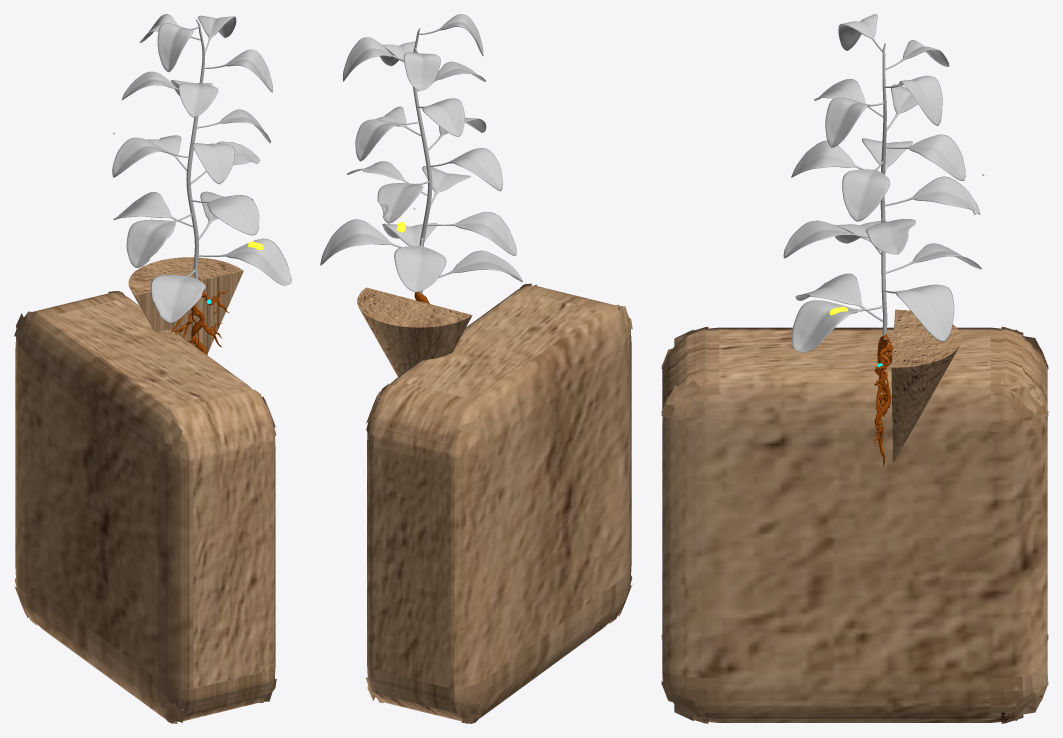
Rendered from outdoorplant.fbx.
3 renders of one model, left to right at view 1: azimuth 30°, elevation 25°; view 2: azimuth 150°, elevation 25°; view 3: azimuth 270°, elevation 25°, orthographic. The views are drawn at different scales.
Parts seen in each view (by area): view 1: Cube, stem, Cone; view 2: Cube, stem, Cone; view 3: Cube, stem, Cone, Vine_023.
Boxes of the visible parts, bbox=[...] form: Cube: bbox=[14, 290, 276, 723]; stem: bbox=[112, 14, 291, 323]; Cone: bbox=[128, 257, 243, 353]; Cube: bbox=[366, 283, 632, 723]; stem: bbox=[320, 14, 522, 293]; Cone: bbox=[357, 287, 472, 376]; Cube: bbox=[661, 326, 1048, 723]; stem: bbox=[783, 14, 981, 352]; Cone: bbox=[891, 309, 961, 462]; Vine_023: bbox=[874, 334, 890, 466].
Size of the model in its own units: 4751 by 14710 by 7361.
